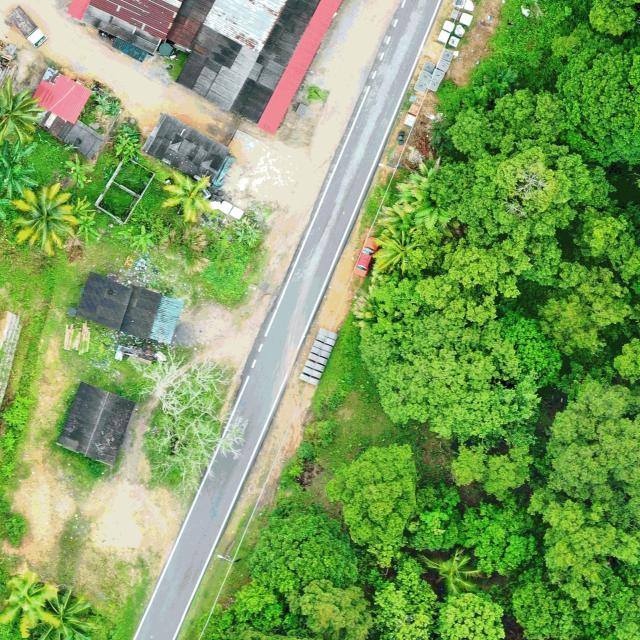Tree: (414, 148, 616, 325), (360, 278, 542, 443), (527, 380, 640, 606), (130, 346, 249, 493), (550, 21, 640, 168), (326, 441, 418, 568), (248, 512, 359, 599), (538, 262, 634, 354), (511, 581, 640, 640), (570, 198, 640, 300), (459, 500, 540, 578), (369, 557, 438, 640), (285, 577, 373, 640), (194, 581, 284, 640), (9, 184, 79, 256), (451, 443, 533, 502), (395, 152, 455, 231), (404, 483, 461, 550), (438, 588, 508, 640), (34, 586, 101, 640), (0, 76, 46, 147), (162, 170, 216, 222), (369, 230, 426, 276), (374, 199, 424, 240), (0, 140, 37, 180), (0, 164, 37, 197), (62, 153, 94, 186), (76, 212, 102, 248), (130, 225, 154, 252), (75, 195, 94, 221), (0, 185, 12, 219)
